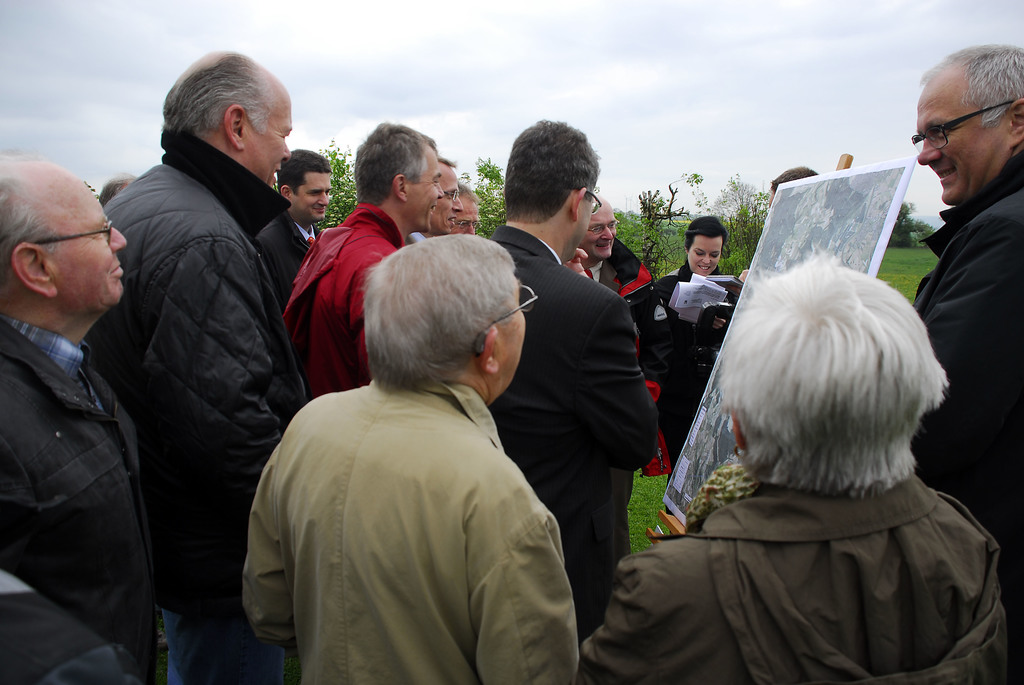Human-face: (39, 171, 132, 299), (913, 76, 998, 205), (241, 84, 289, 186), (497, 276, 527, 389), (406, 146, 442, 233), (569, 184, 600, 262), (294, 169, 334, 225), (435, 165, 461, 233), (585, 207, 615, 262), (687, 237, 723, 274), (452, 201, 477, 237)
